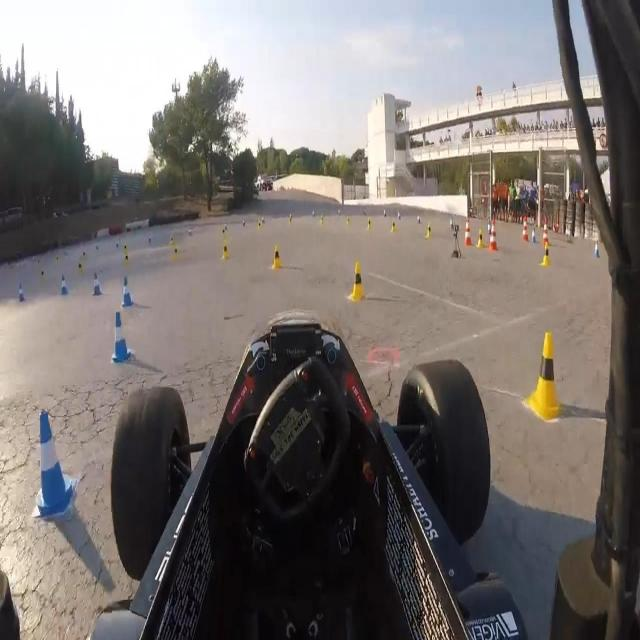blue_cone: (26, 411, 76, 521), (110, 313, 134, 365), (117, 275, 134, 309), (90, 272, 102, 298), (61, 274, 70, 297), (18, 282, 28, 302), (592, 236, 600, 258), (485, 215, 492, 235), (530, 227, 536, 245), (415, 211, 421, 225), (448, 215, 453, 229), (397, 209, 401, 222)
large_orange_cone: (486, 216, 500, 254), (463, 217, 473, 248), (540, 217, 550, 246), (521, 214, 529, 244)
yellow_cone: (520, 332, 565, 426), (343, 262, 366, 308), (268, 241, 284, 271), (538, 240, 554, 268), (220, 239, 230, 263), (475, 230, 485, 250), (424, 222, 433, 242), (172, 244, 180, 266), (77, 260, 84, 278), (389, 220, 397, 234), (124, 252, 131, 268), (366, 216, 372, 232), (256, 219, 262, 233), (123, 242, 128, 255), (320, 213, 324, 225)
